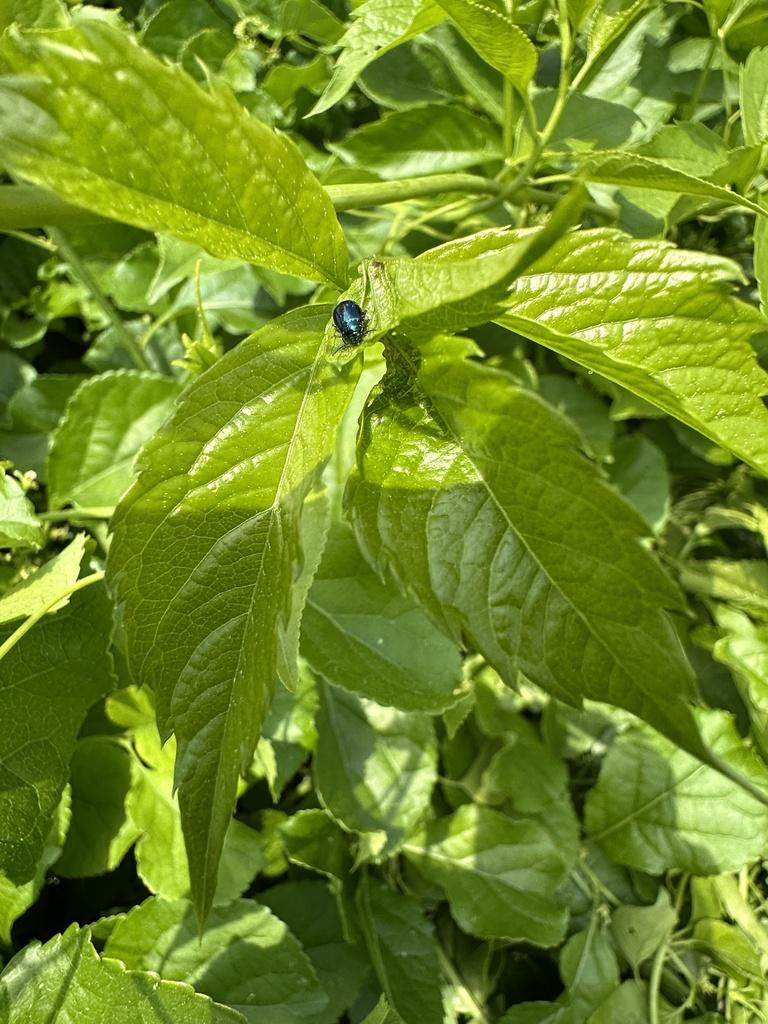flea_beetle: (315, 278, 394, 362)
